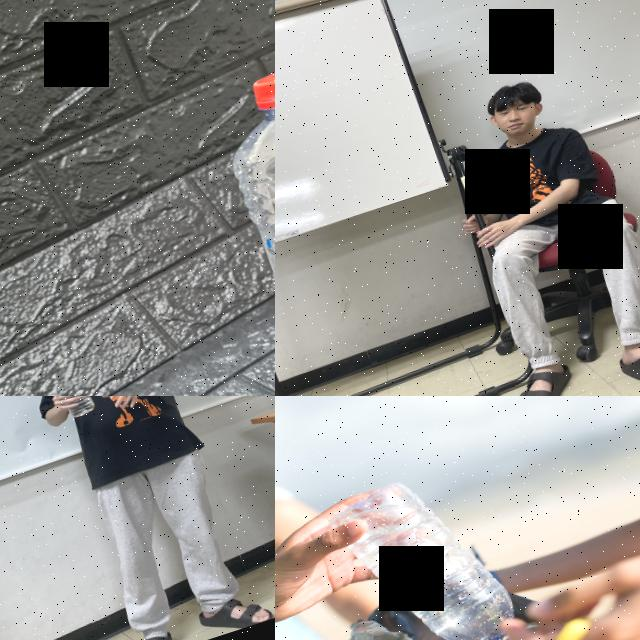bottle: (317, 458, 531, 640), (173, 35, 275, 396), (41, 396, 97, 423)
